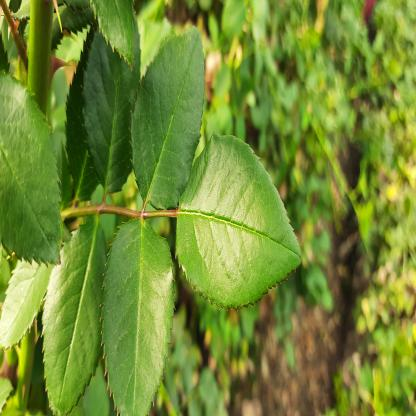normal: (175, 131, 302, 306), (100, 216, 172, 410), (132, 26, 206, 204), (41, 210, 105, 410), (2, 70, 63, 272), (83, 10, 146, 192)
